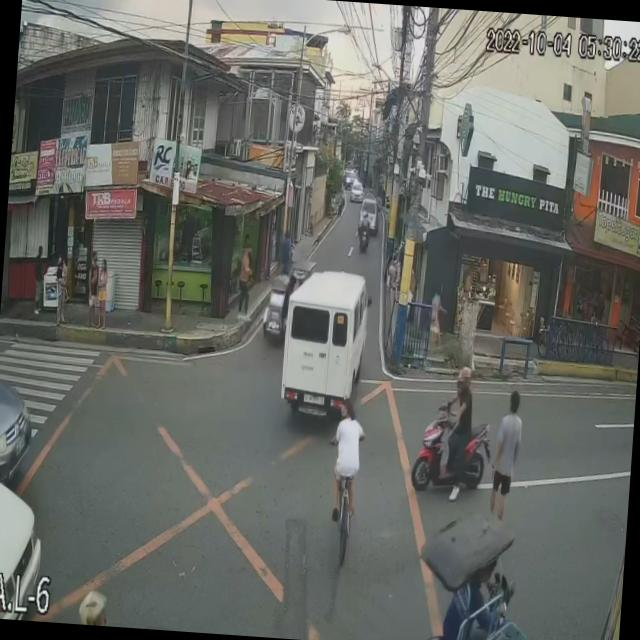full: (454, 365, 472, 397)
